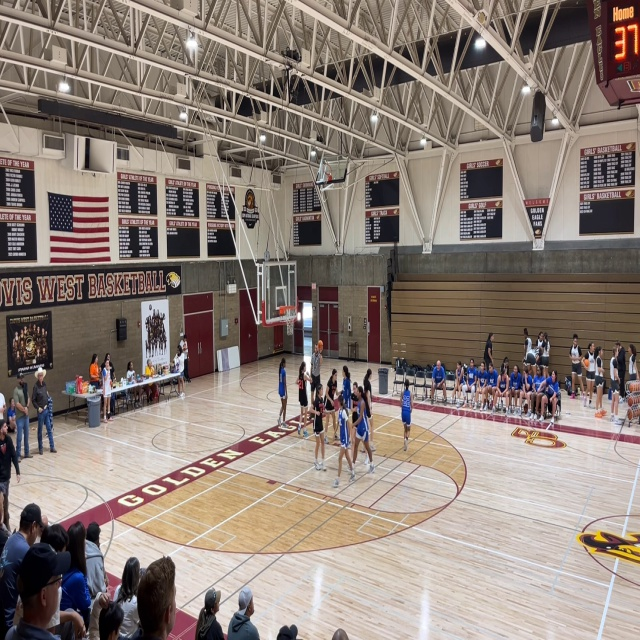Basketball: (581, 358, 589, 368), (317, 339, 323, 351)
